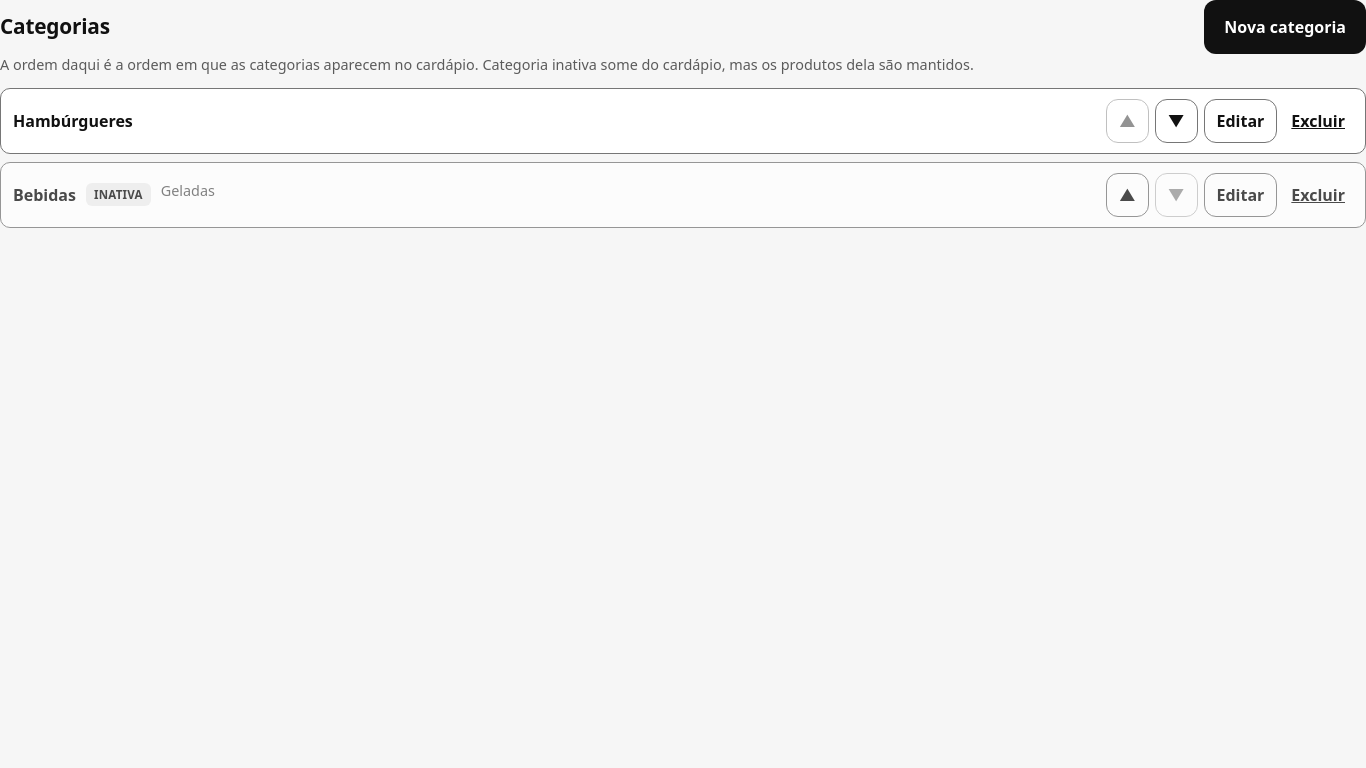
Scenario: Admin: categorias › categoria com produtos não é excluída: explica o motivo
Step 1. Click the button with aria-label "Excluir Hambúrgueres" → (1318, 121), box [1283,99,1353,143]
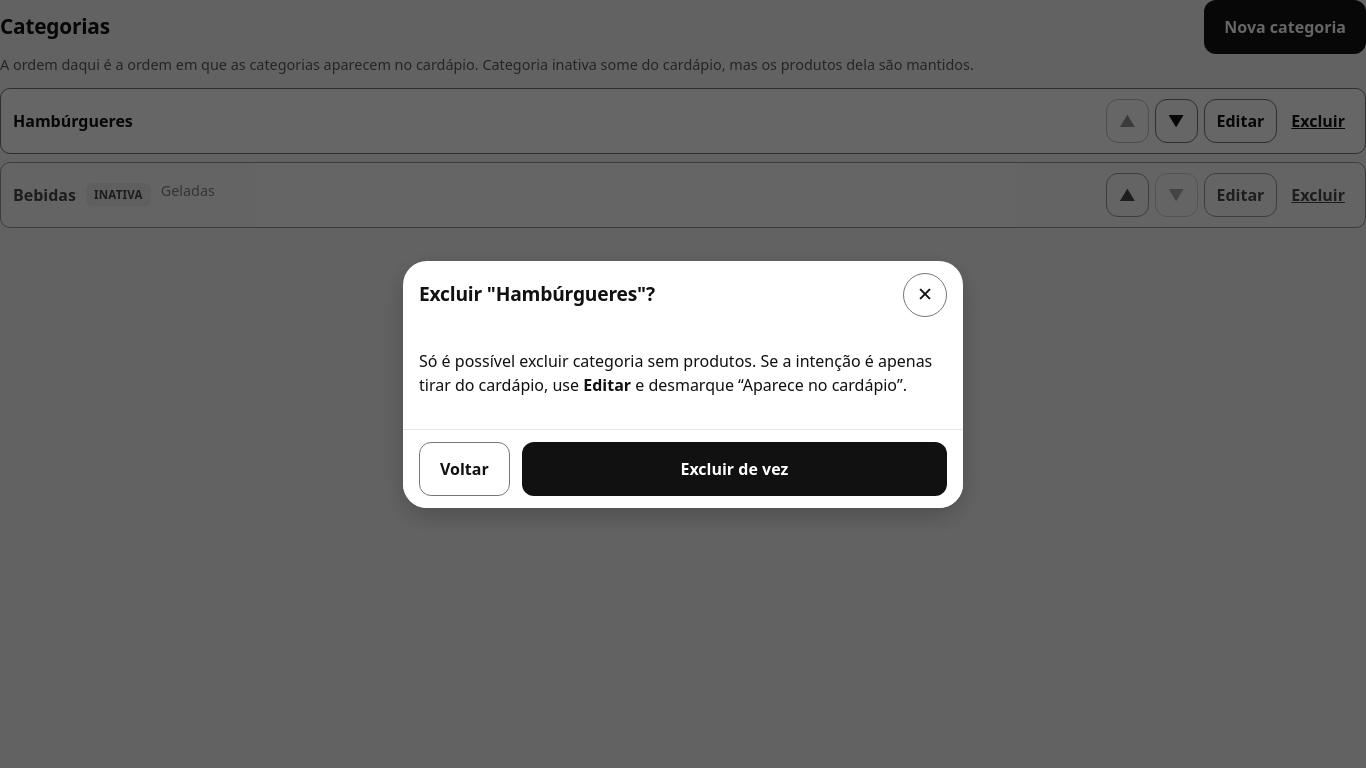
Step 2. Click the button "Excluir de vez" → (734, 468), box [522,442,947,496]
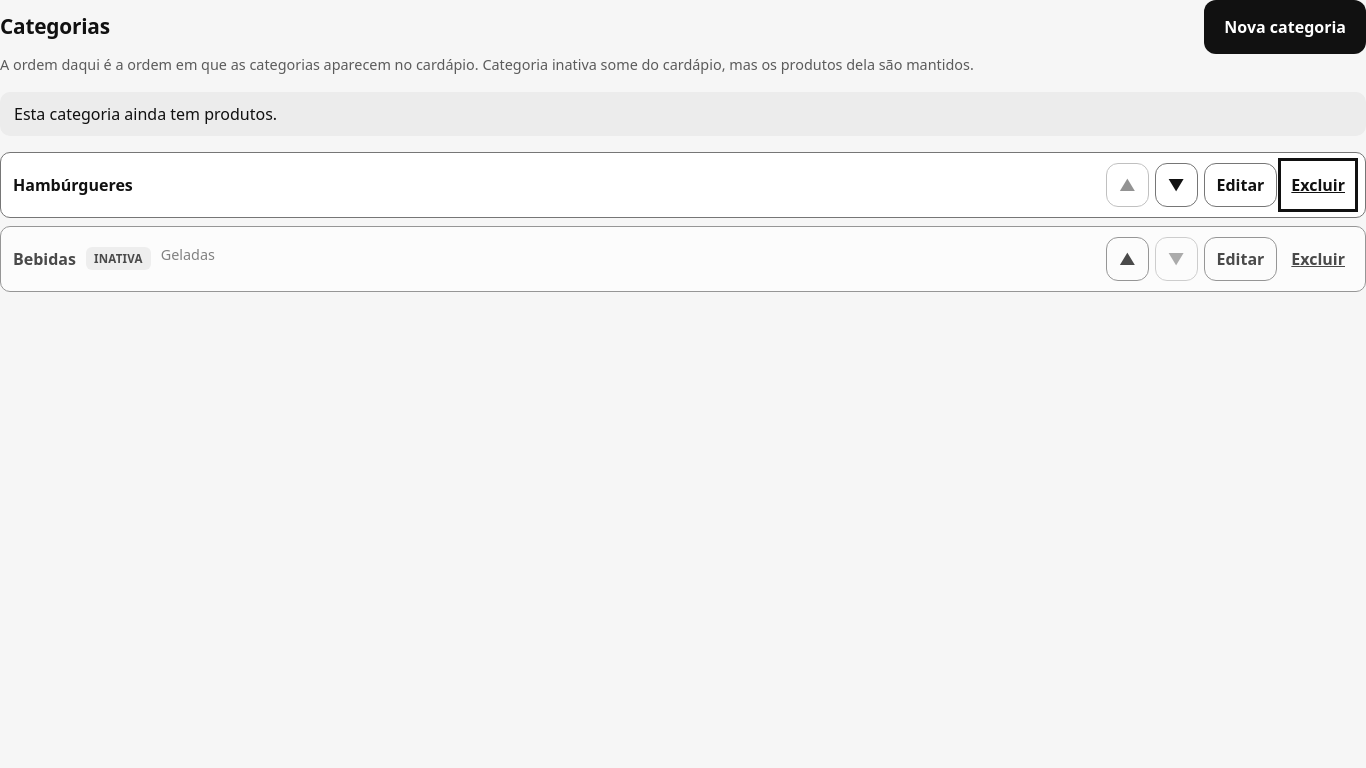
expect the text "Hambúrgueres" is shown: met, box [13,173,133,197]
expect the text "Esta categoria ainda tem produtos." is shown: met, box [0,92,1365,136]
